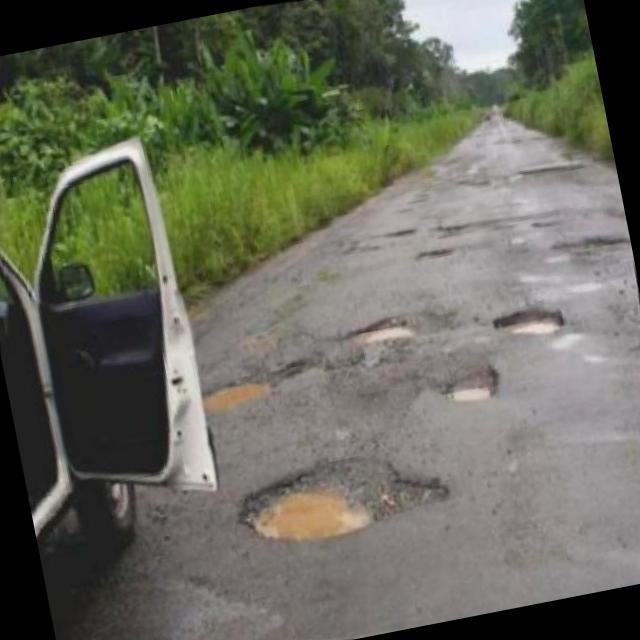Pothole: (239, 458, 449, 547), (439, 360, 499, 405), (202, 382, 275, 417), (492, 309, 567, 337), (346, 317, 413, 347)
